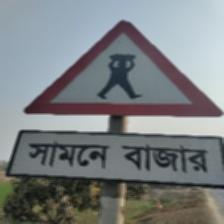Market-in-front: (20, 20, 223, 188)
